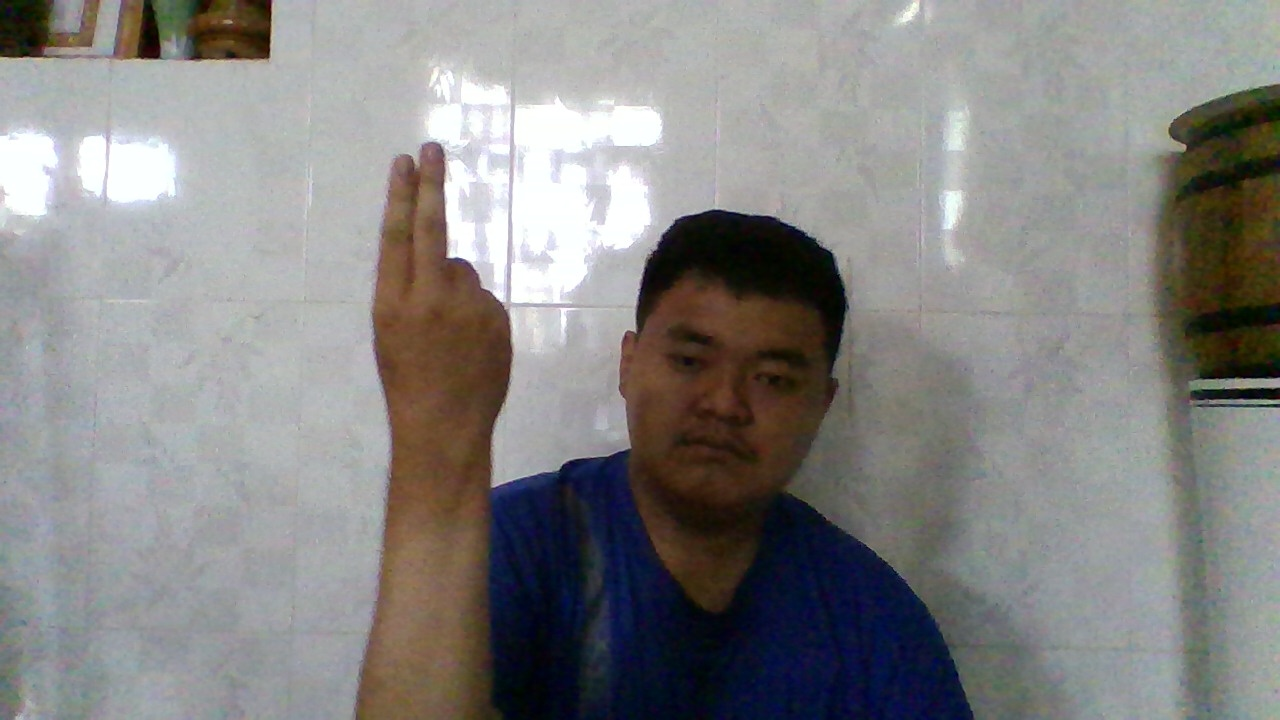U: (372, 136, 516, 446)
